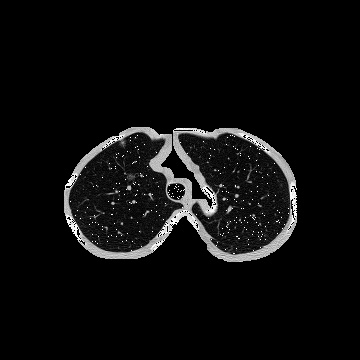PN: (118, 139, 126, 147)
